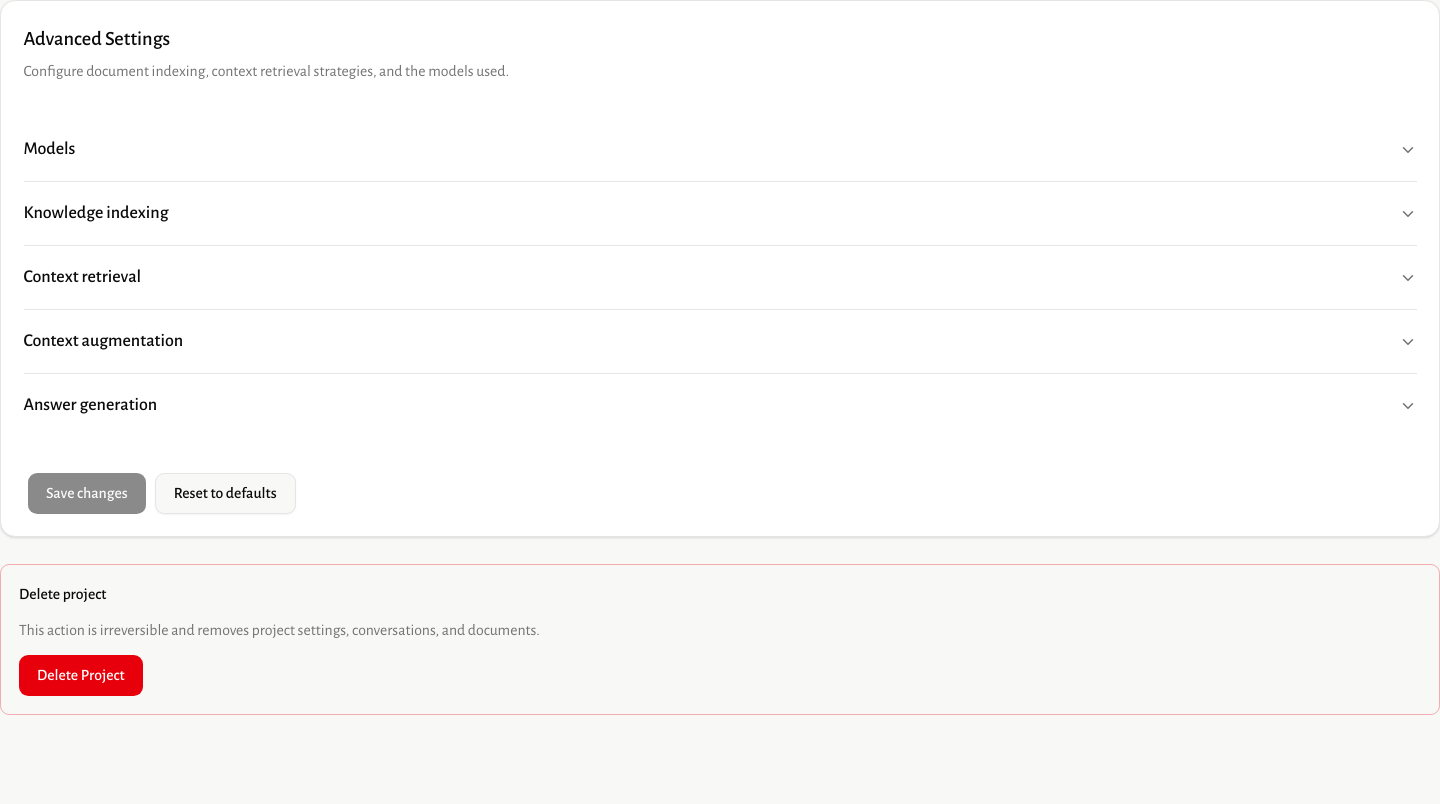
ProjectAdvancedPanel – field values inheritance › Retrieval — Min score input › shows project min score and ignores user default
Click the button "Context retrieval" at (82, 277), box [24,246,1416,309]
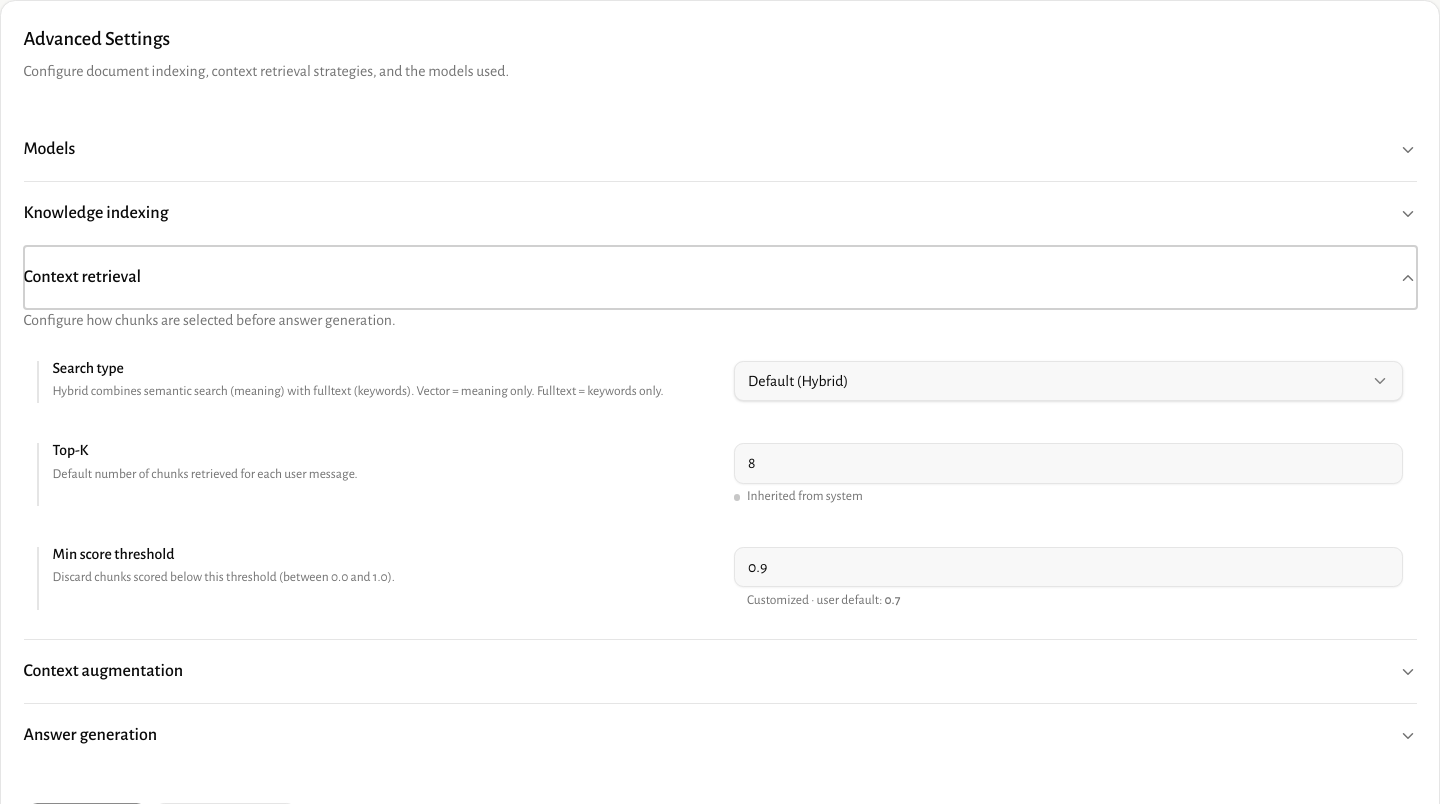
Expected: the number field labelled "Min score threshold" holds "0.9", [734,547,1403,587]
